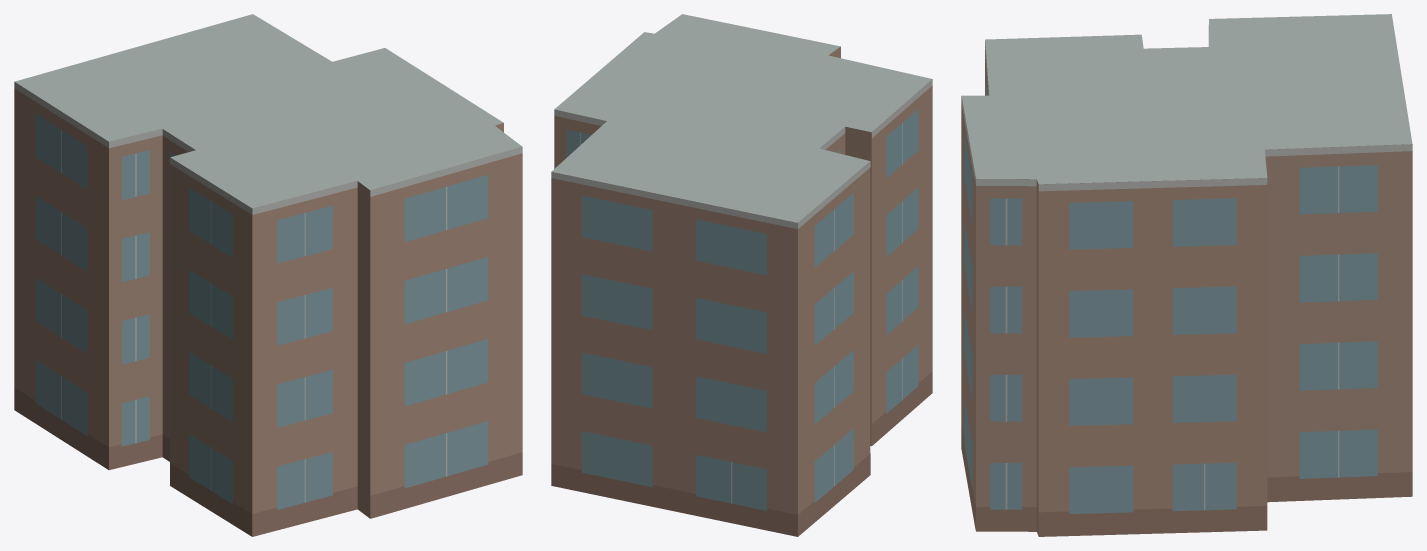
Rendered from survey-upis-32658379.glb.
The picture shows the model from 3 angles, left to right: view 1: azimuth 30°, elevation 25°; view 2: azimuth 150°, elevation 25°; view 3: azimuth 270°, elevation 25°; orthographic projection. The views are drawn at different scales.
Parts seen in each view (by area): view 1: survey-upis-32658379.tmp; view 2: survey-upis-32658379.tmp; view 3: survey-upis-32658379.tmp.
Part boxes in pixels (x1,y1,x2,y2): survey-upis-32658379.tmp: (14,14,522,536); survey-upis-32658379.tmp: (551,14,932,536); survey-upis-32658379.tmp: (961,14,1412,536).
Size of the model in its own units: 12.64 by 12.2 by 14.16.
